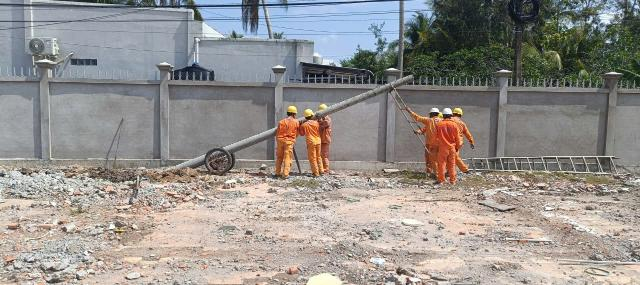gloves: (316, 112, 323, 121), (469, 143, 476, 150)
helmet: (303, 108, 317, 119), (285, 106, 298, 115), (435, 110, 445, 120), (453, 107, 464, 116), (319, 101, 327, 112), (442, 108, 452, 116), (428, 108, 439, 115)
shoes: (431, 179, 444, 186), (308, 173, 319, 179), (283, 175, 294, 181)
